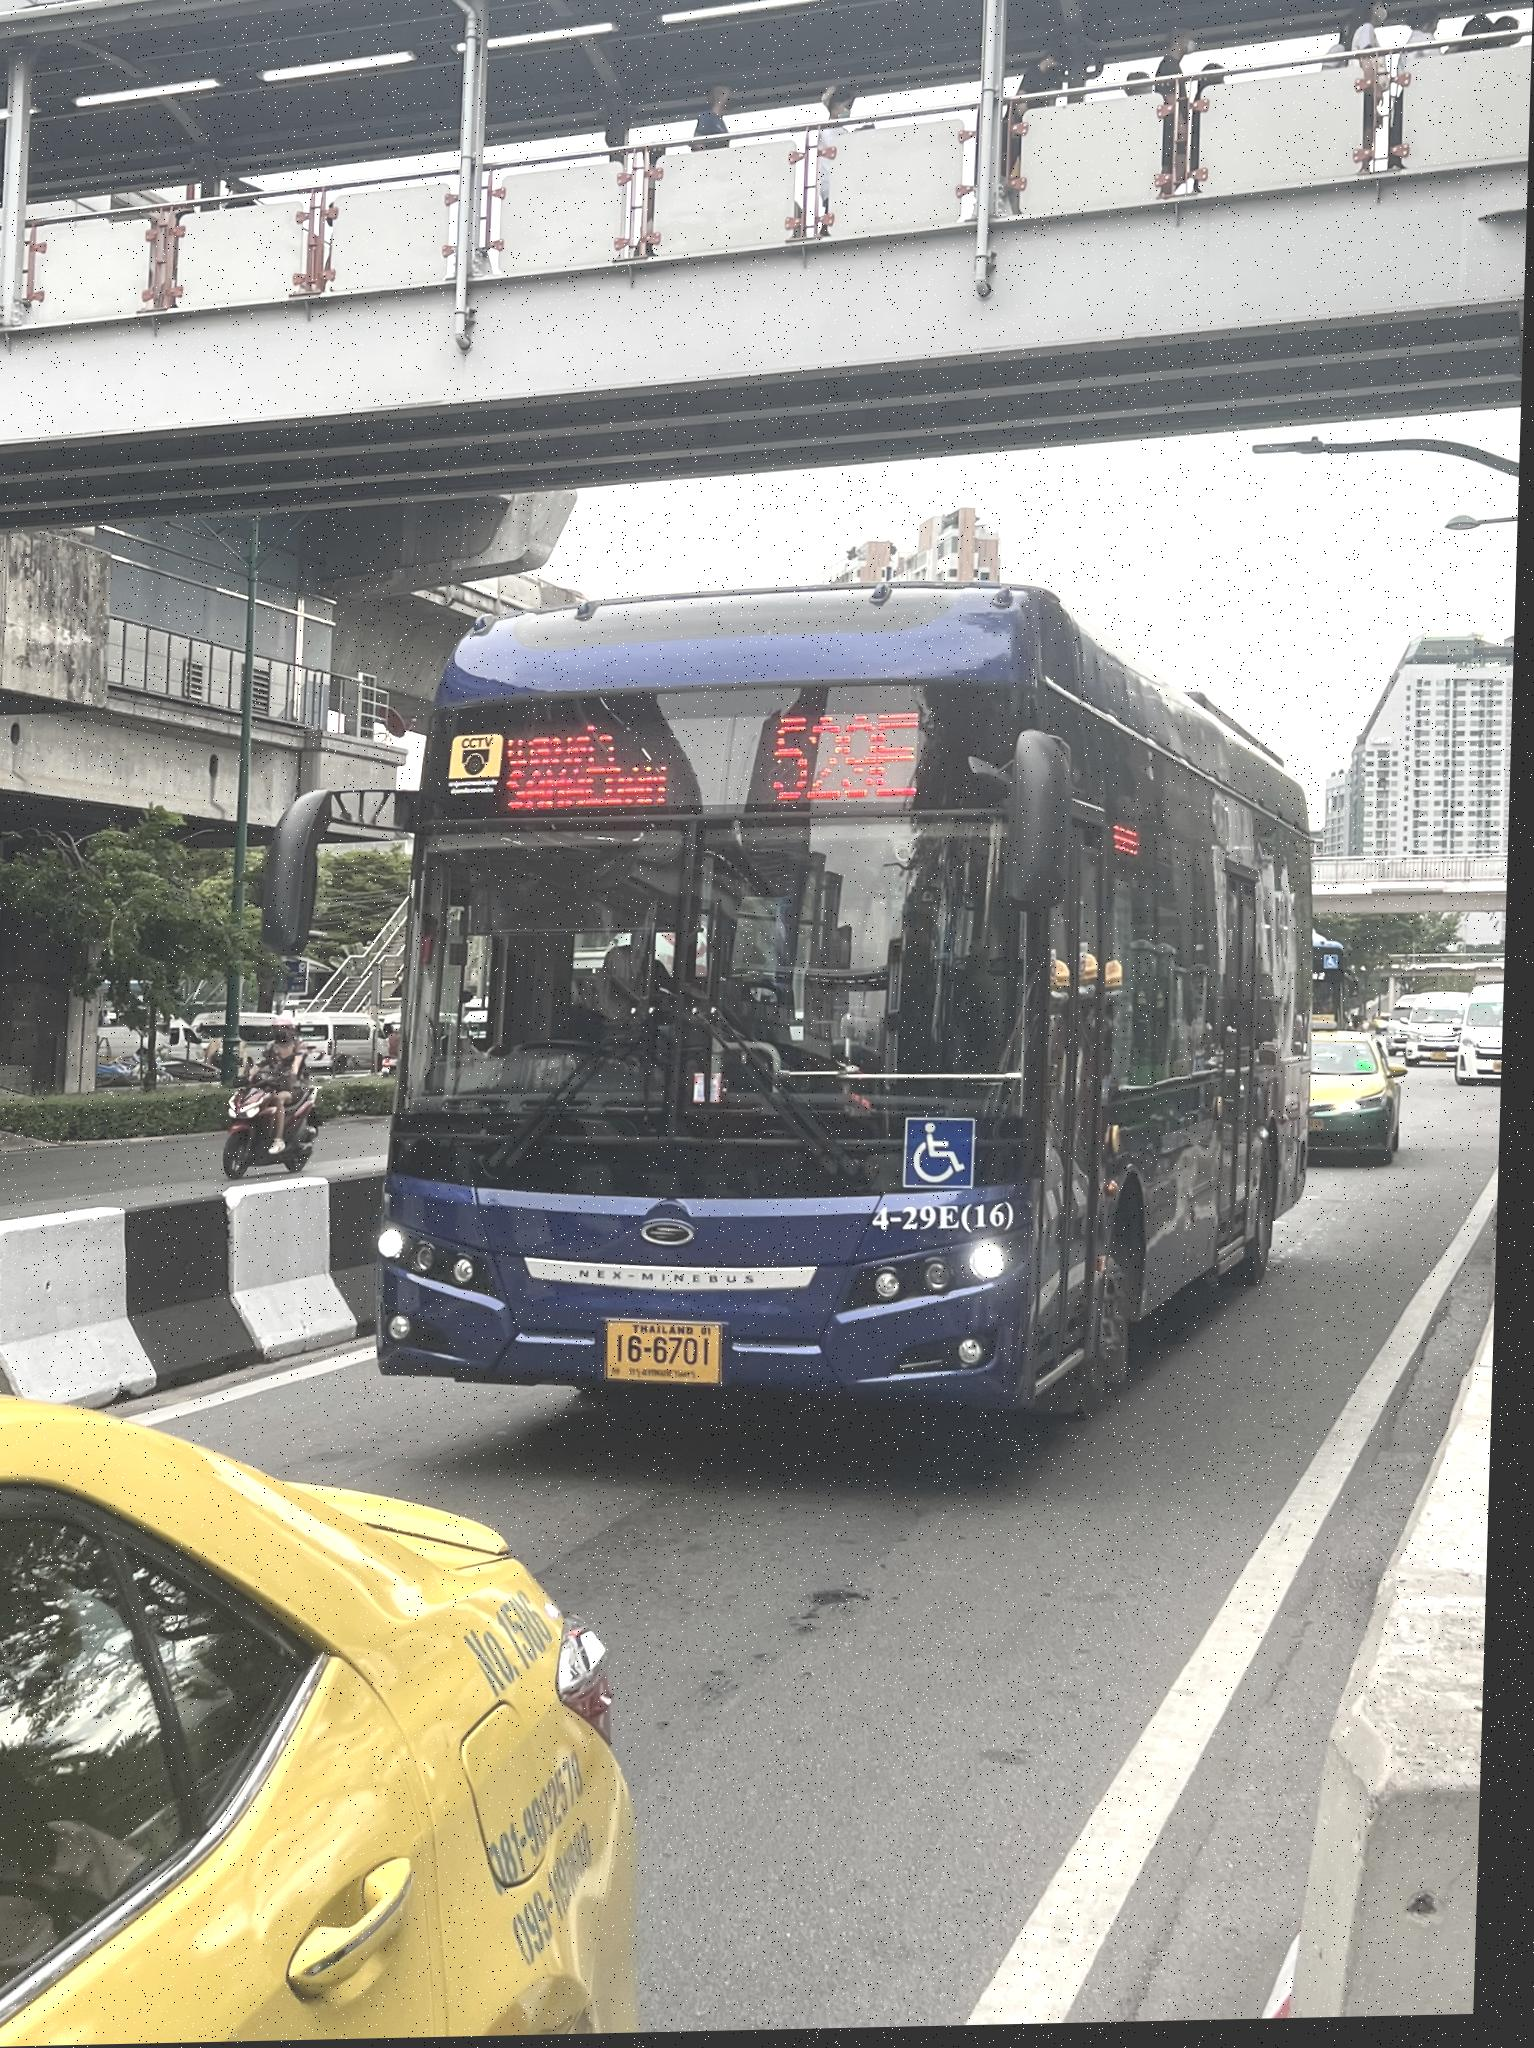Bus Line Number: (752, 701, 941, 814)
Bus Side Number: (869, 1196, 1030, 1242)
Destination Sign: (487, 720, 691, 823)
TSB-Bus: (382, 577, 1325, 1424)
